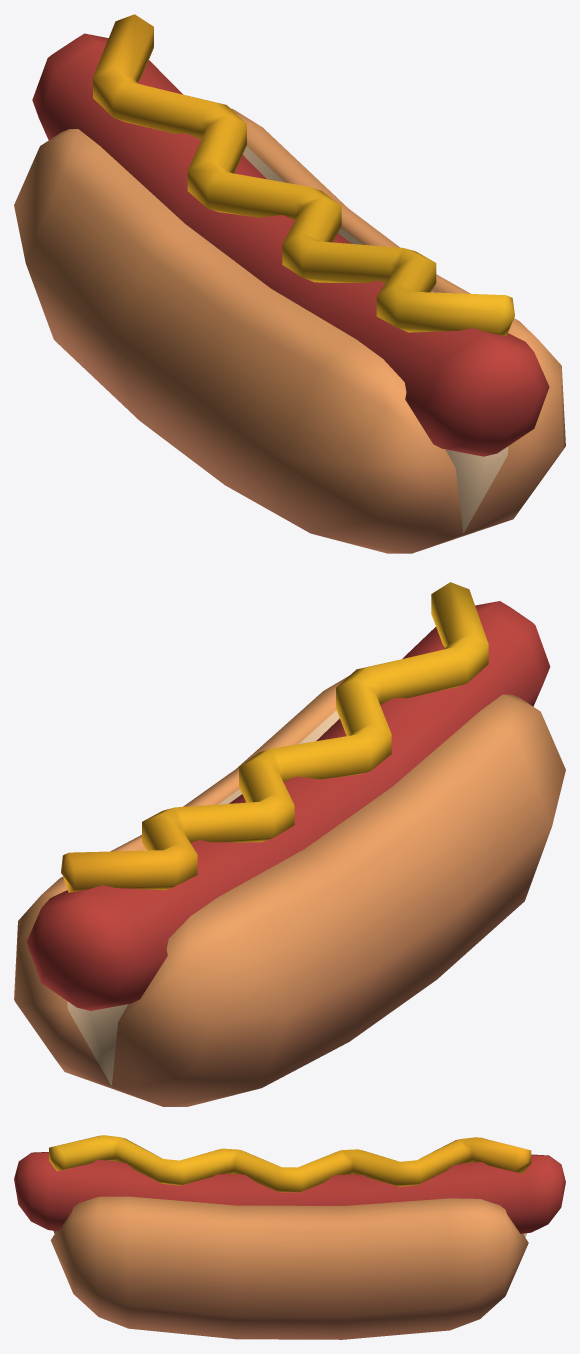
Rendered from Hot Dog.fbx.
The picture shows the model from 3 angles, top to bottom: view 1: azimuth 30°, elevation 25°; view 2: azimuth 150°, elevation 25°; view 3: azimuth 270°, elevation 25°; orthographic projection. The views are drawn at different scales.
Parts seen in each view (by area): view 1: Hot Dog; view 2: Hot Dog; view 3: Hot Dog.
Part boxes in pixels (<box>): Hot Dog: <box>14,14,565,553</box>; Hot Dog: <box>14,582,565,1106</box>; Hot Dog: <box>14,1135,565,1339</box>.
Size of the model in its own units: 13.92 by 14.86 by 39.99.
